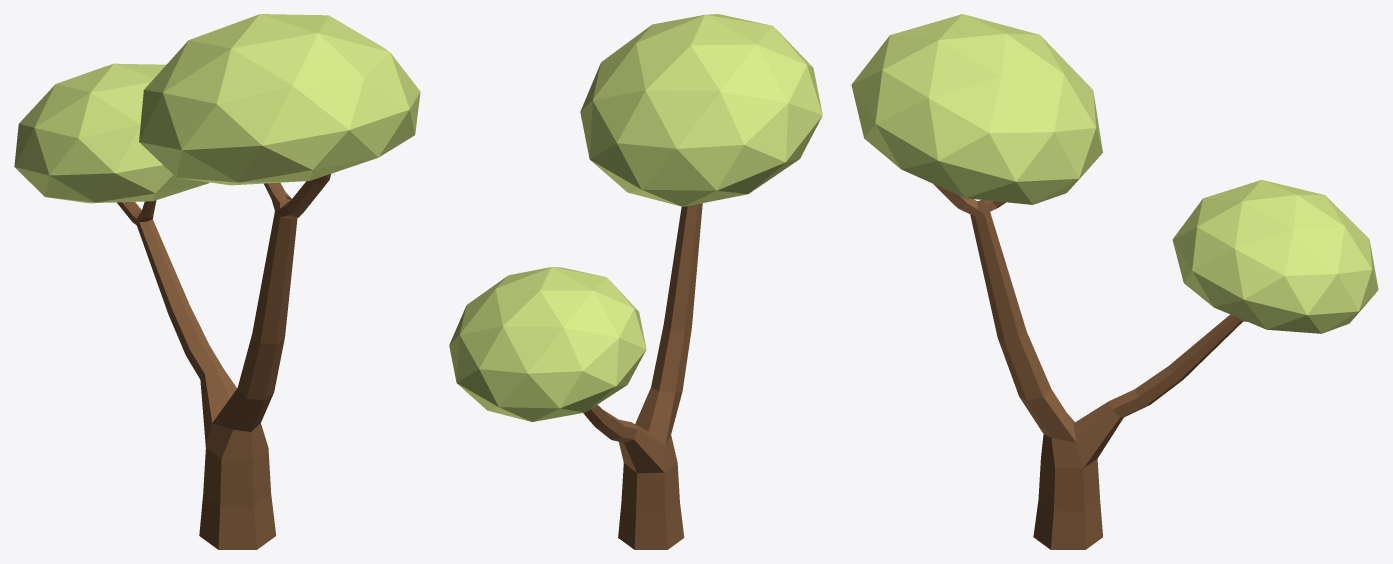
Rendered from Tree2.fbx.
3 renders of one model, left to right at view 1: azimuth 30°, elevation 25°; view 2: azimuth 150°, elevation 25°; view 3: azimuth 270°, elevation 25°, orthographic. The views are drawn at different scales.
Parts seen in each view (by area): view 1: Tree2; view 2: Tree2; view 3: Tree2.
Part boxes in pixels (x1,y1,x2,y2): Tree2: (14, 14, 420, 549); Tree2: (449, 14, 822, 549); Tree2: (851, 14, 1378, 549).
Size of the model in its own units: 232 by 513 by 489.
